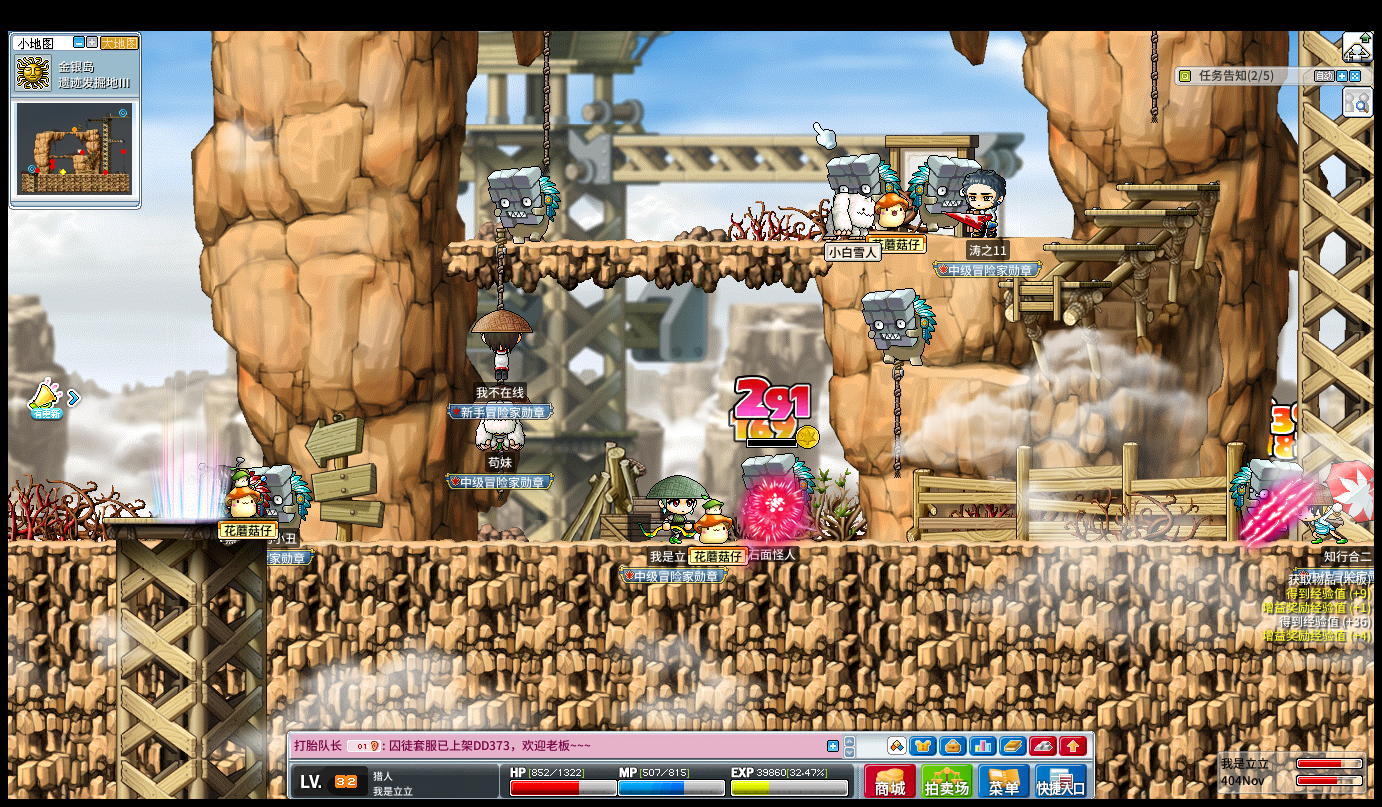floor: (301, 540, 1373, 550), (445, 239, 825, 250), (926, 364, 1031, 389), (7, 539, 116, 550), (960, 235, 1086, 242), (999, 280, 1112, 287), (1043, 244, 1155, 251), (1116, 184, 1220, 191), (103, 518, 219, 524), (1084, 209, 1198, 215)
monster: (861, 289, 937, 366), (487, 167, 562, 243), (1229, 458, 1302, 531), (740, 453, 817, 517), (907, 155, 966, 232), (826, 153, 902, 194), (269, 464, 314, 530)
rope: (892, 364, 904, 478), (542, 30, 551, 172), (496, 228, 506, 311), (1151, 31, 1158, 123)
